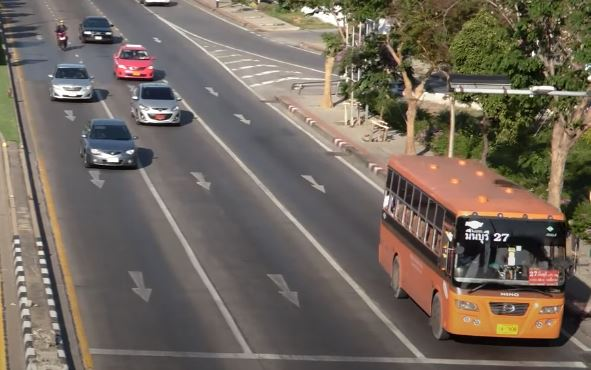Bus: (377, 156, 568, 340)
Car: (79, 118, 137, 168), (130, 82, 181, 126), (111, 41, 155, 80), (48, 62, 93, 100), (78, 15, 114, 43)
Motorcycle: (54, 19, 69, 51)
